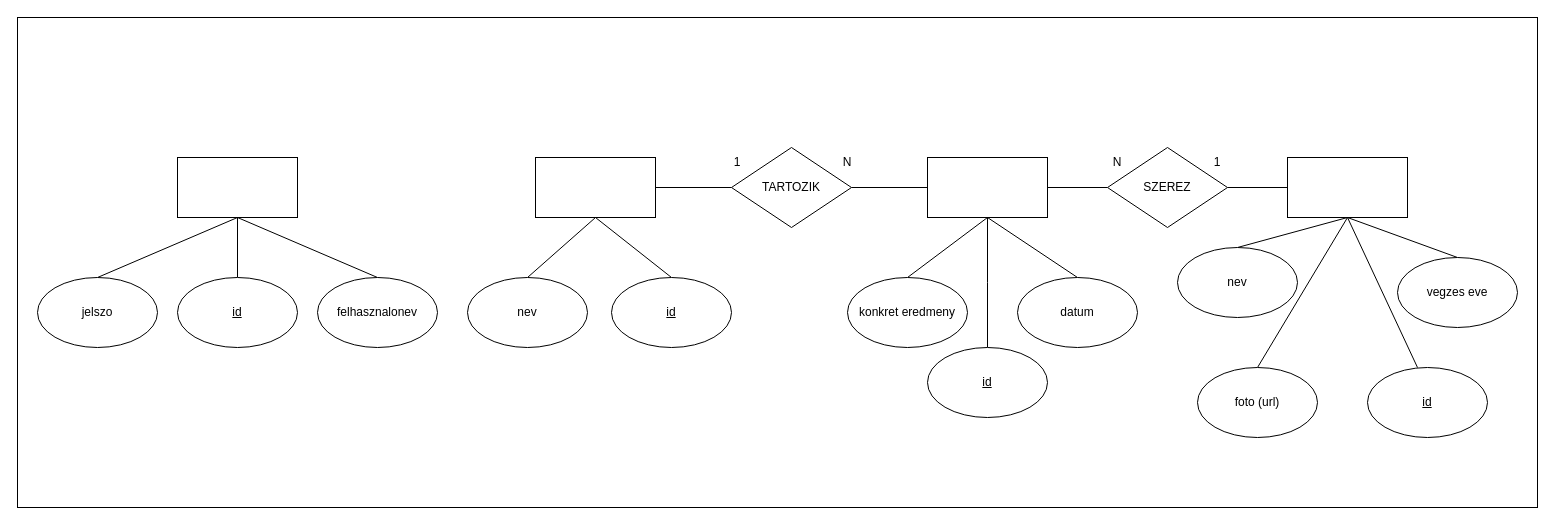
Image size: 1555x525. Some labels were removed from this diagram. Here are the shapes that lost their labels. From the top down, the centre of each, then its label:
At pixel 237 187: "ADMINOK".
At pixel 595 187: "KATEGORIAK".
At pixel 987 187: "EREDMENYEK".
At pixel 1347 187: "DIAKOK".
